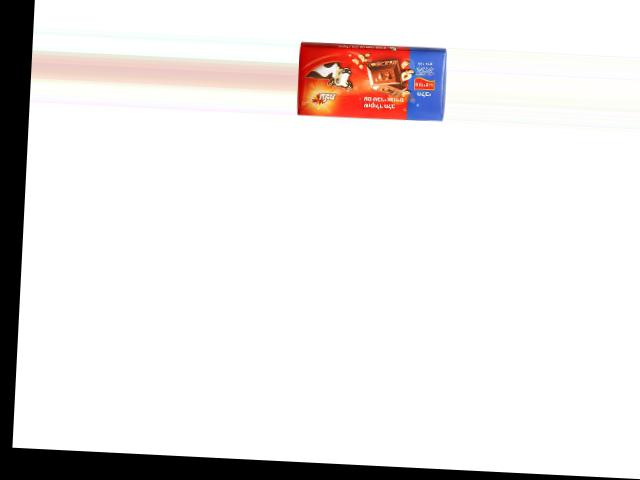chocolate: (296, 35, 445, 120)
